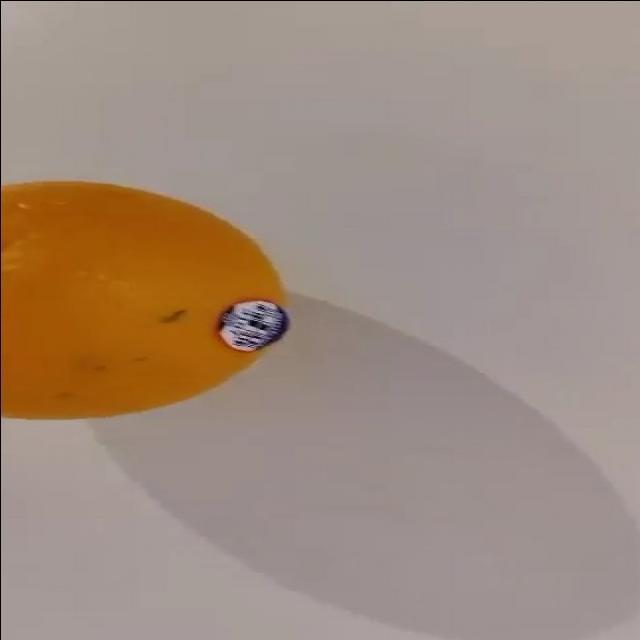Orange: (1, 178, 289, 420)
